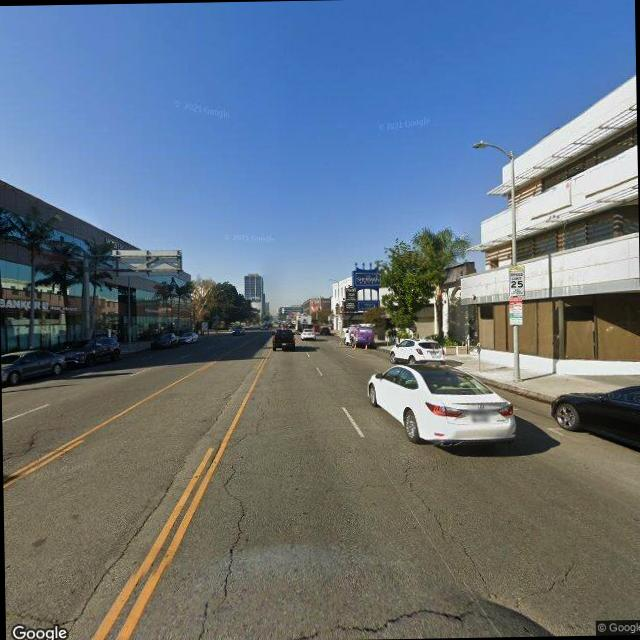crack: (51, 470, 182, 634), (398, 456, 496, 590), (181, 468, 251, 640), (300, 604, 478, 638), (515, 560, 580, 600), (235, 398, 269, 442), (20, 424, 40, 456)
